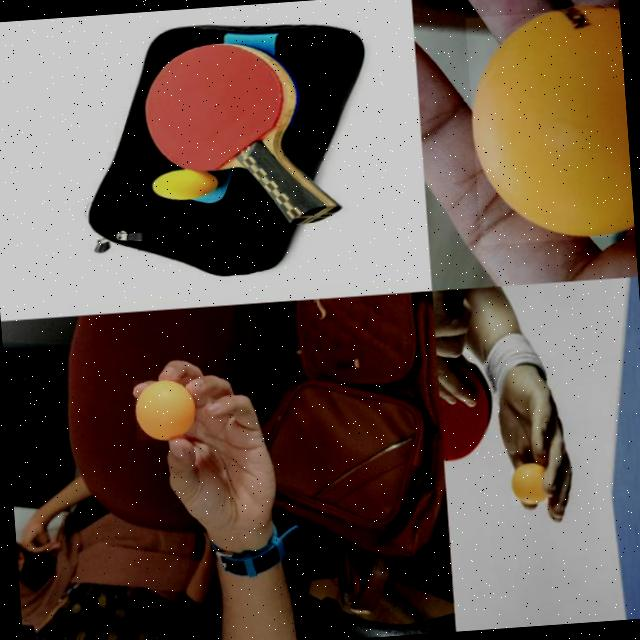ping-pong-ball: (463, 6, 635, 246), (131, 374, 195, 440), (148, 169, 220, 202), (509, 464, 548, 506)
